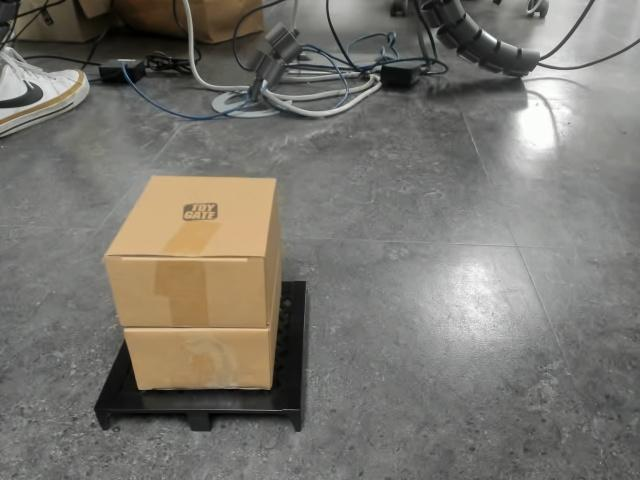box: (95, 173, 308, 431)
